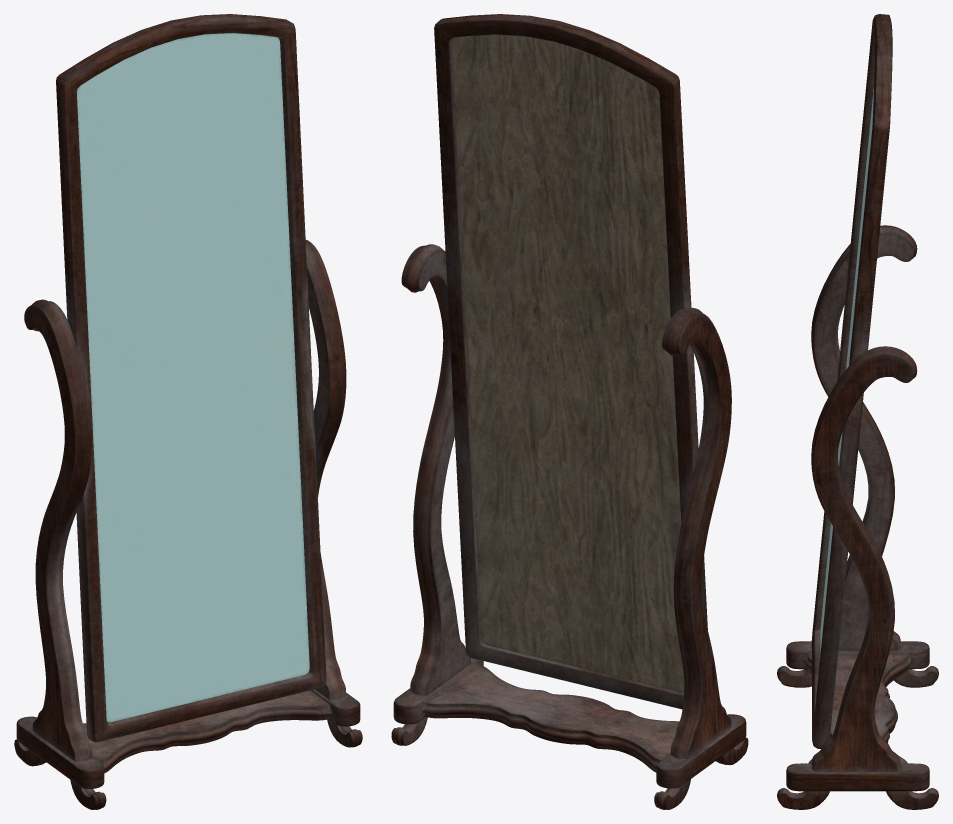
File: mirror-standing-ornate.glb
3 views of the same model, side by side, from view 1: azimuth 30°, elevation 25°; view 2: azimuth 150°, elevation 25°; view 3: azimuth 270°, elevation 25° (orthographic). The views are drawn at different scales.
Visible parts, largest first — view 1: mirror-standing-ornate; view 2: mirror-standing-ornate; view 3: mirror-standing-ornate.
Boxes of the visible parts, box(x1,y1,x2,y2) form: mirror-standing-ornate: box(14, 14, 362, 809); mirror-standing-ornate: box(391, 14, 748, 809); mirror-standing-ornate: box(777, 14, 938, 809).
Bounding box in the file's own units: 0.7162 × 1.76 × 0.3677.
Materials: 1 (1 with a texture image).
